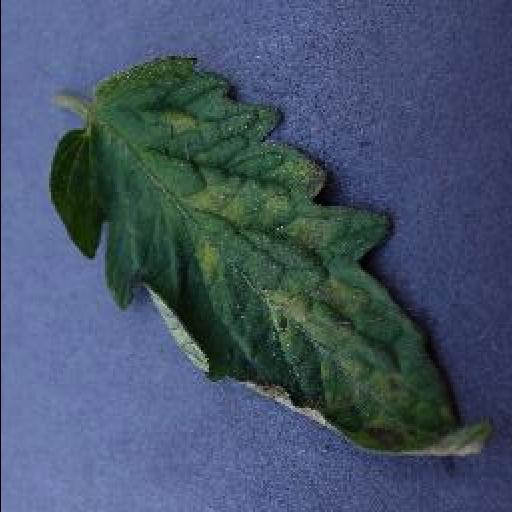disease_tomato: (46, 60, 490, 458)
